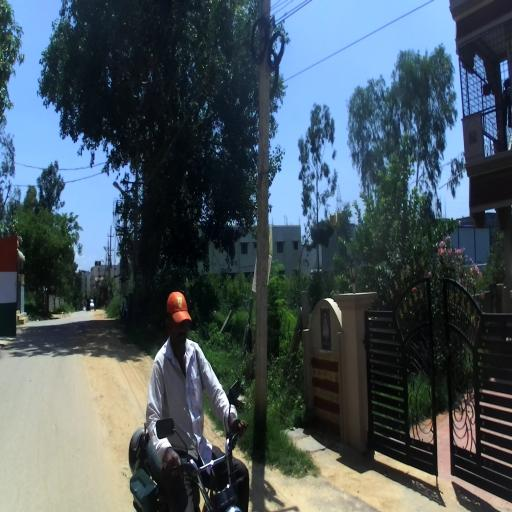street_light_0: (113, 181, 127, 195), (104, 246, 112, 262), (101, 259, 109, 271)
